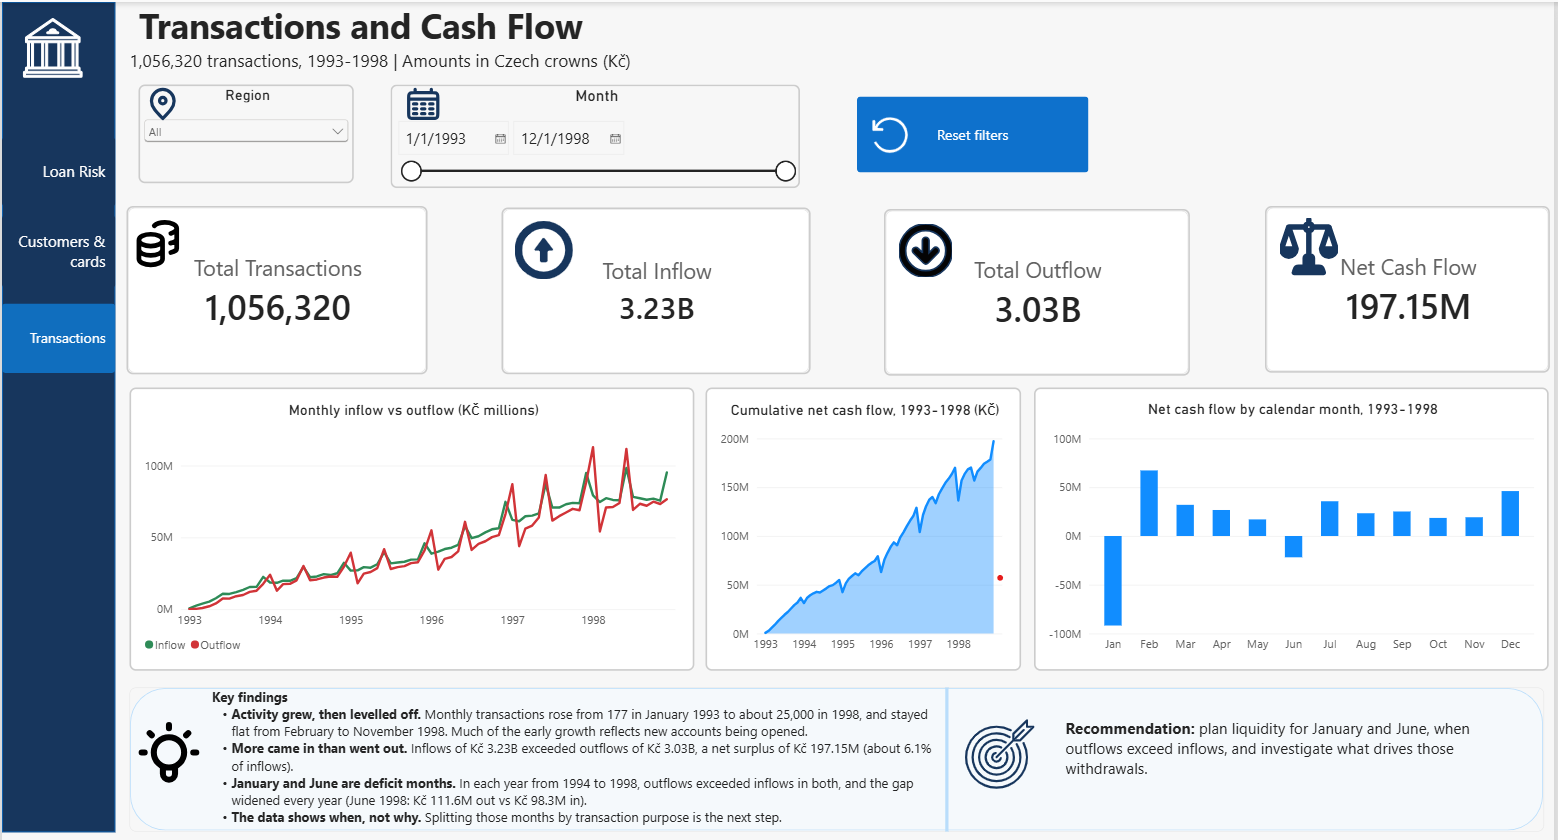

Layout of this report page (visuals, bound fields, positions):
{"tool":"powerbi","page":{"name":"Transactions","canvas":[1920,1080],"ordinal":2},"visuals":[{"type":"cardVisual","fields":{"Data":["Cashflow.Total Transactions"]},"box":[154,252,372,208],"z":0},{"type":"cardVisual","fields":{"Data":["Cashflow.Total Outflow"]},"box":[1090.7,256,378,206],"z":1000},{"type":"cardVisual","fields":{"Data":["Cashflow.Net Cash Flow"]},"box":[1560,252,352,206],"z":2000},{"type":"cardVisual","fields":{"Data":["Cashflow.Total Inflow"]},"box":[617.3,254,382,206],"z":3000},{"type":"shape","box":[0,0,140,1026],"z":4000},{"type":"actionButton","box":[0,166,140,86],"z":5000},{"type":"image","box":[8,16,110,80],"z":6000},{"type":"actionButton","box":[0,372,140,86],"z":7000},{"type":"actionButton","box":[0,264,140,90],"z":8000},{"type":"shape","box":[158,848,1748,178],"z":9000},{"type":"image","box":[152,882,108,90],"z":10000},{"type":"image","box":[1190,874,86,108],"z":11000},{"type":"shape","box":[1106,848,122,178],"z":12000},{"type":"lineChart","title":"Monthly inflow vs outflow (Kč millions)","fields":{"Category":["Cashflow.month"],"Y":["Cashflow.Inflow (chart)","Cashflow.Outflow (chart)"]},"box":[158,476,698,350],"z":13000},{"type":"areaChart","title":"Cumulative net cash flow, 1993-1998 (Kč)","fields":{"Category":["Cashflow.month"],"Y":["Cashflow.Running Net Flow"]},"box":[870,476,390,350],"z":14000},{"type":"clusteredColumnChart","title":"Net cash flow by calendar month, 1993-1998","fields":{"Category":["Cashflow.Month Name"],"Y":["Cashflow.Net Cash Flow"]},"box":[1276,476,636,350],"z":15000},{"type":"slicer","title":"Region","fields":{"Values":["Regions.region"]},"box":[168,102,266,122],"z":16000},{"type":"slicer","title":"Month","fields":{"Values":["Cashflow.month"]},"box":[480,102,506,128],"z":17000},{"type":"actionButton","box":[1056,116,286,94],"z":18000},{"type":"textbox","box":[158,0,784,96],"z":19000},{"type":"textbox","box":[260,848,890,178],"z":20000},{"type":"textbox","box":[1314,848,504,178],"z":21000},{"type":"image","box":[158,258,70,82],"z":22000},{"type":"image","box":[1108,266,66,80],"z":23000},{"type":"image","box":[632,270,74,72],"z":24000},{"type":"image","box":[1576,266,78,72],"z":25000},{"type":"image","box":[492,102,58,48],"z":26000},{"type":"image","box":[168,102,60,48],"z":27000},{"type":"image","box":[1060,136,74,58],"z":28000}]}

Visuals, with their boxes on the page's 1920x1080 design canvas (x1, y1, x2, y2). These are canvas units, not pixel positions in the 1558x840 screenshot, which may show the page scaled, cropped or inside an application window:
cardVisual - Cashflow.Total Transactions: 154,252,526,460
cardVisual - Cashflow.Total Outflow: 1091,256,1469,462
cardVisual - Cashflow.Net Cash Flow: 1560,252,1912,458
cardVisual - Cashflow.Total Inflow: 617,254,999,460
shape: 0,0,140,1026
actionButton: 0,166,140,252
image: 8,16,118,96
actionButton: 0,372,140,458
actionButton: 0,264,140,354
shape: 158,848,1906,1026
image: 152,882,260,972
image: 1190,874,1276,982
shape: 1106,848,1228,1026
"Monthly inflow vs outflow (Kč millions)" lineChart: 158,476,856,826
"Cumulative net cash flow, 1993-1998 (Kč)" areaChart: 870,476,1260,826
"Net cash flow by calendar month, 1993-1998" clusteredColumnChart: 1276,476,1912,826
"Region" slicer: 168,102,434,224
"Month" slicer: 480,102,986,230
actionButton: 1056,116,1342,210
textbox: 158,0,942,96
textbox: 260,848,1150,1026
textbox: 1314,848,1818,1026
image: 158,258,228,340
image: 1108,266,1174,346
image: 632,270,706,342
image: 1576,266,1654,338
image: 492,102,550,150
image: 168,102,228,150
image: 1060,136,1134,194
